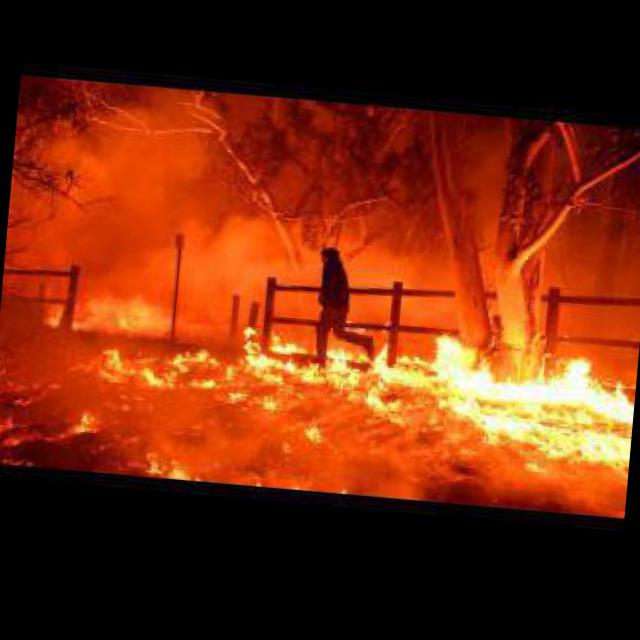fire: (0, 298, 638, 515)
